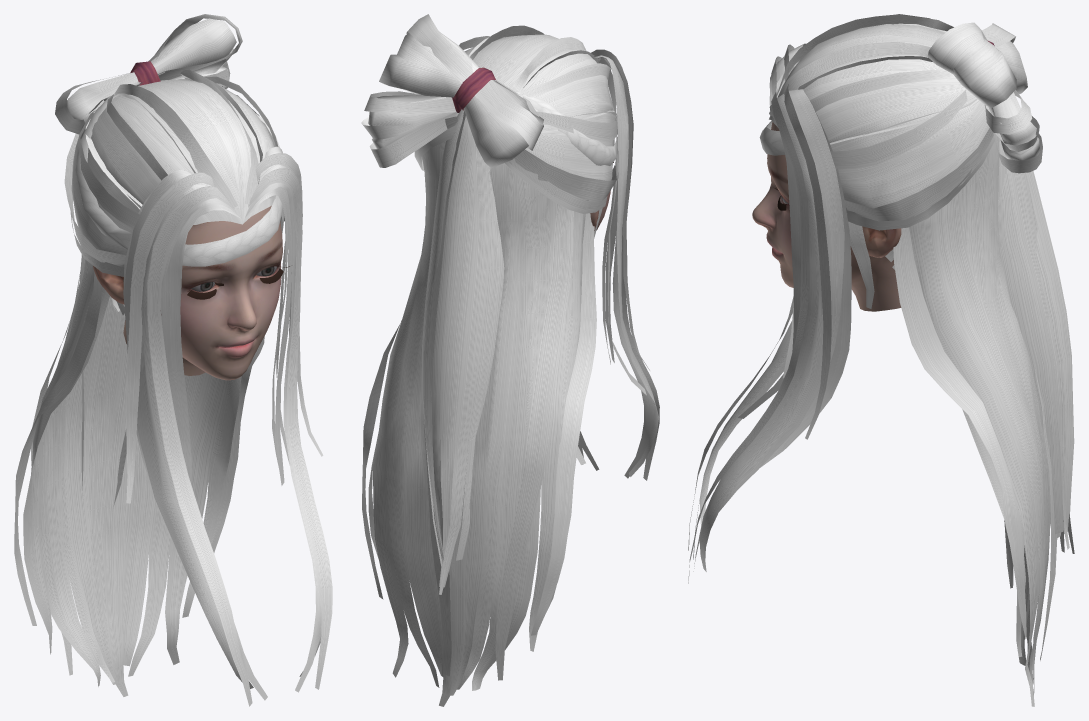
Rendered from TianDaoNv.FBX.
3 renders of one model, left to right at view 1: azimuth 30°, elevation 25°; view 2: azimuth 150°, elevation 25°; view 3: azimuth 270°, elevation 25°, orthographic. The views are drawn at different scales.
Visible parts, largest first — view 1: Hair, Face; view 2: Hair, Fadai; view 3: Hair, Face.
Part boxes in pixels (x1,y1,x2,y2): Hair: (14,14,332,706); Face: (93,205,282,380); Hair: (361,14,659,706); Fadai: (452,67,495,112); Hair: (688,14,1074,706); Face: (752,122,901,311).
Size of the model in its own units: 19.16 by 56.71 by 28.33.
5 materials, 5 textured.
